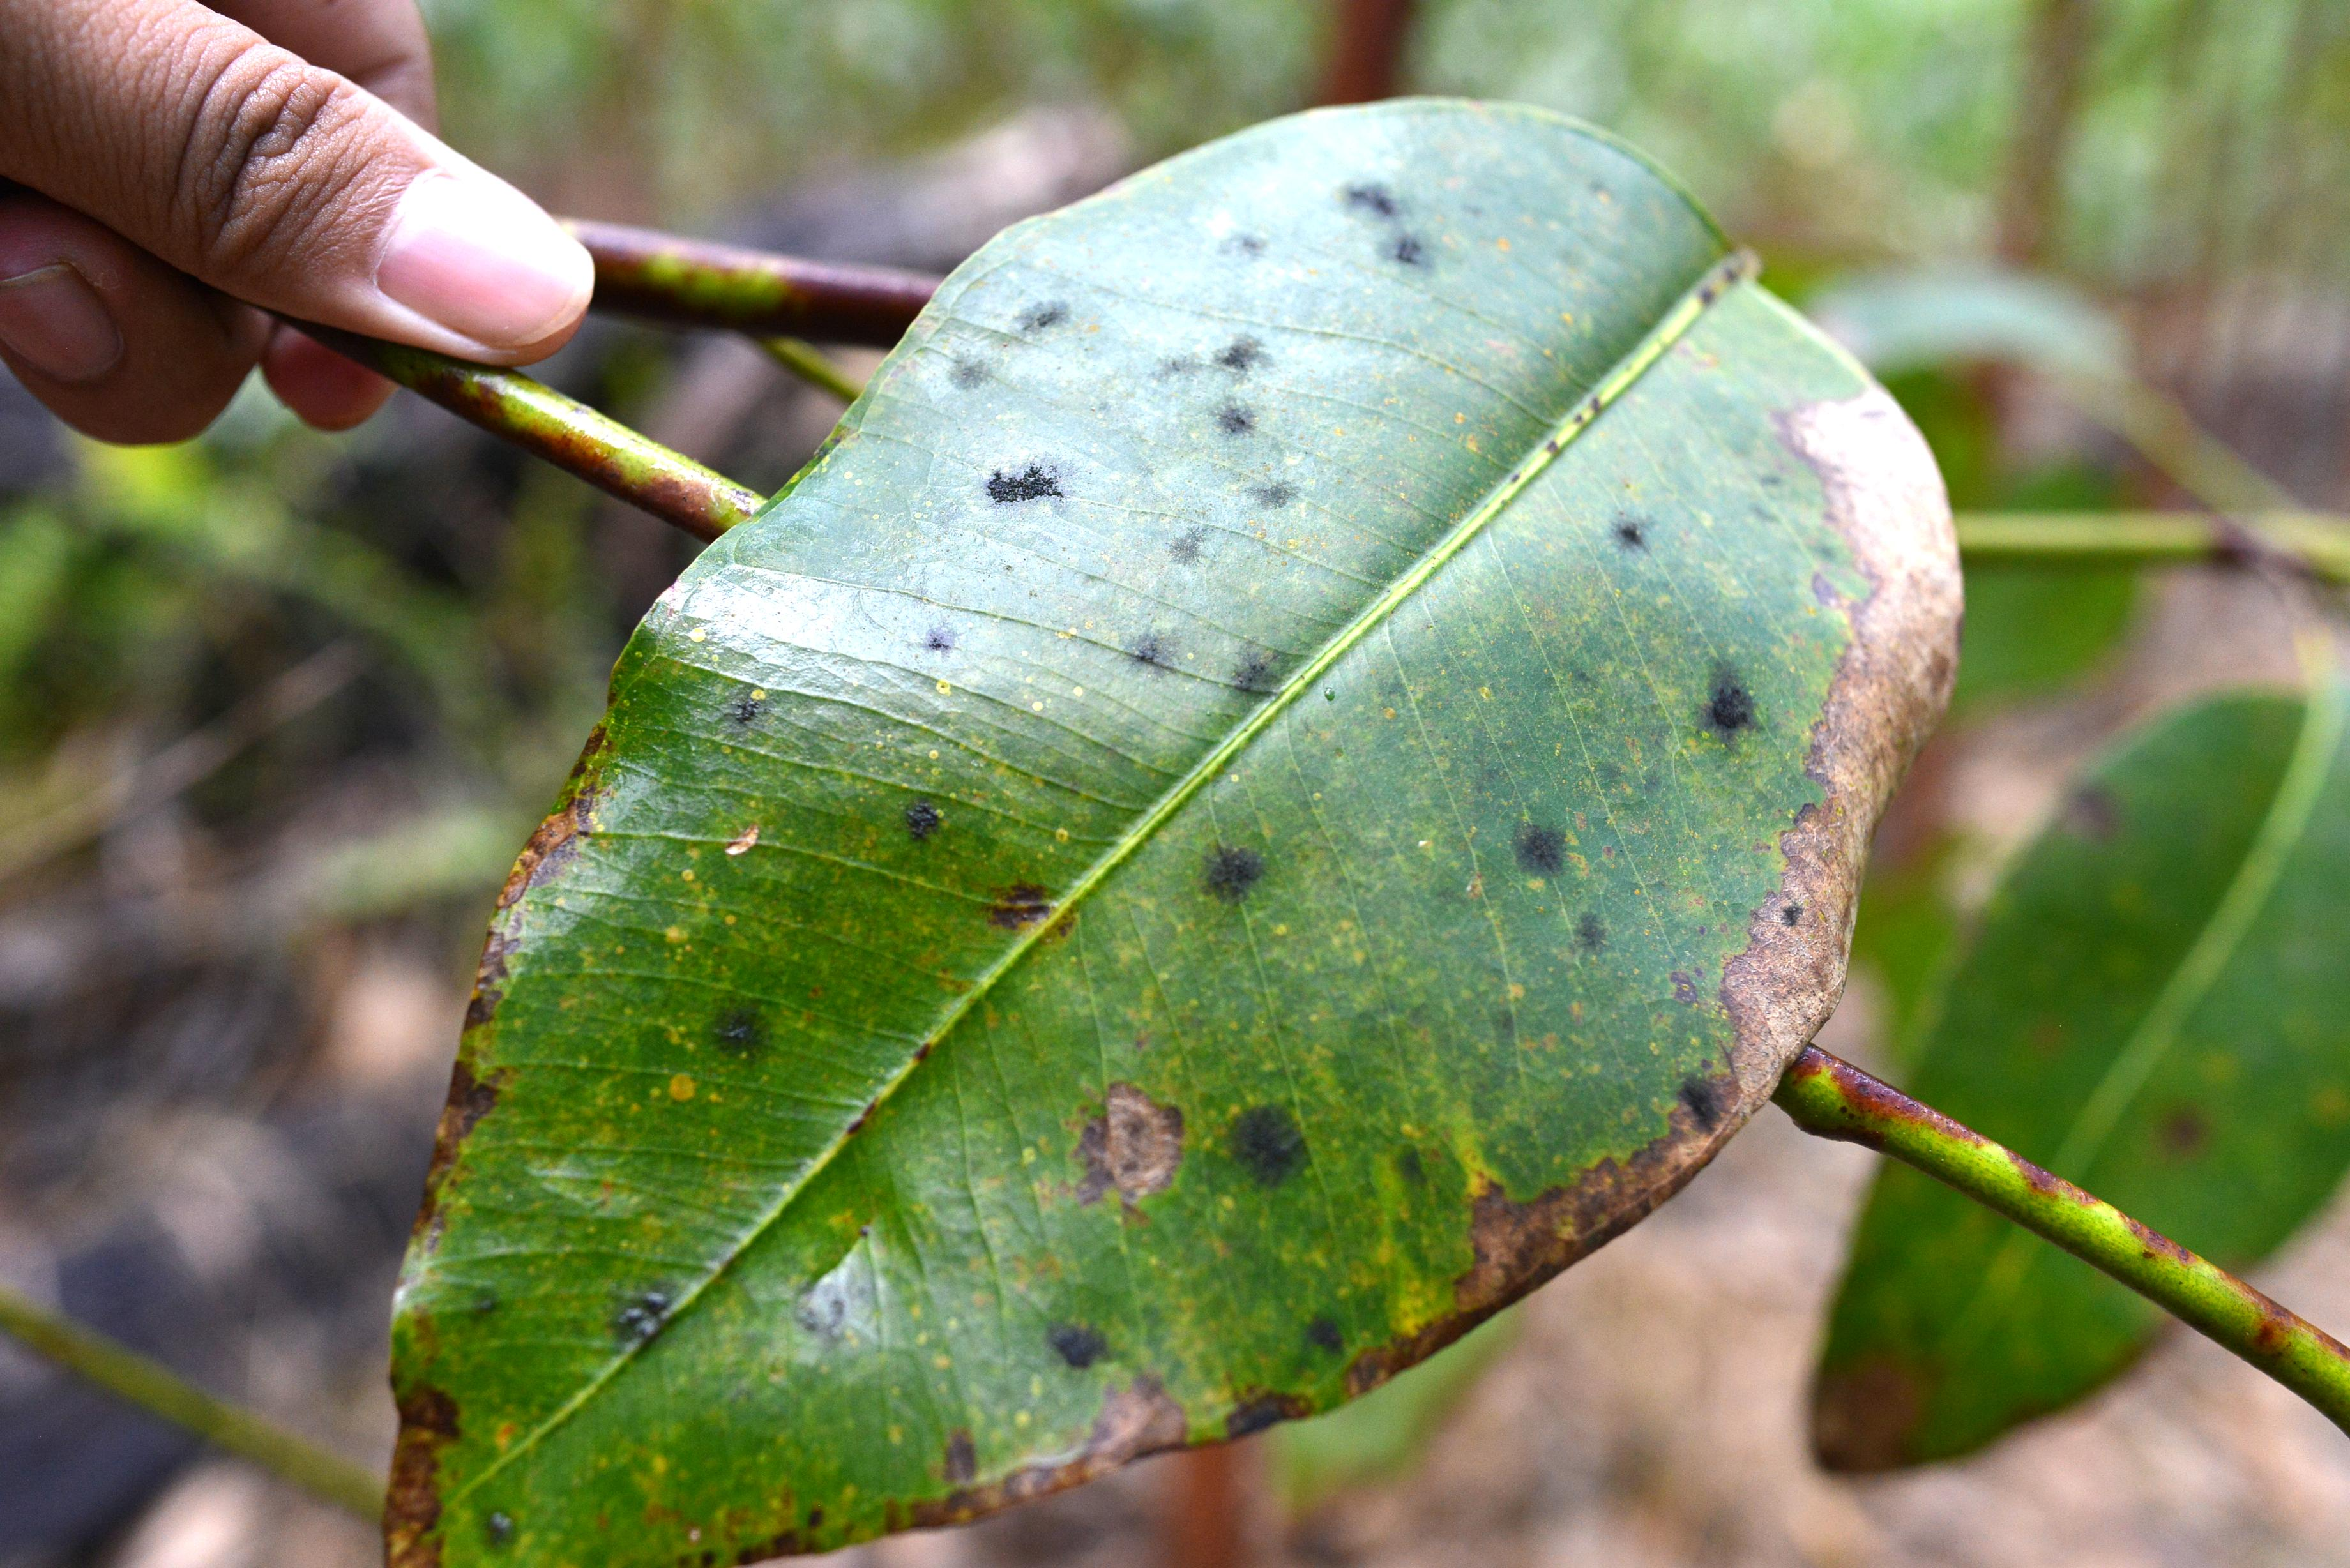Cylindrocladium: (1451, 380, 1969, 1402)
Embun Jelaga: (374, 115, 1792, 1568)
